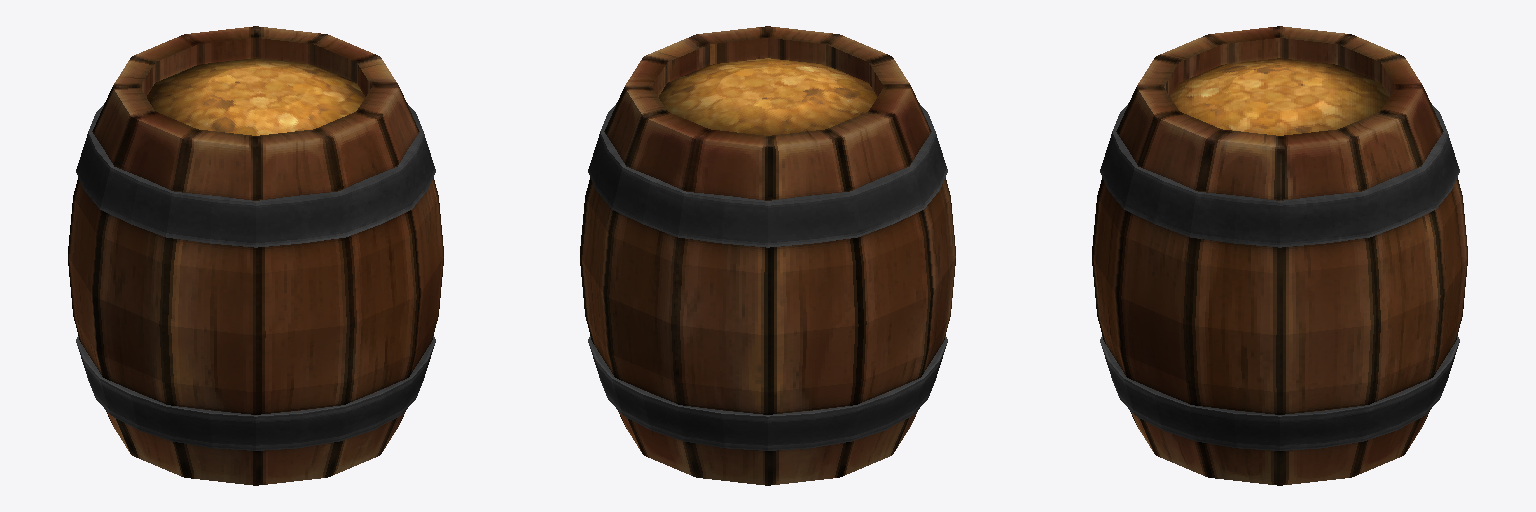
3 renders of one model, left to right at view 1: azimuth 30°, elevation 25°; view 2: azimuth 150°, elevation 25°; view 3: azimuth 270°, elevation 25°, orthographic.
Visible parts, largest first — view 1: Barrel_m_Mesh; view 2: Barrel_m_Mesh; view 3: Barrel_m_Mesh.
Part boxes in pixels (left/top/right/bottom): Barrel_m_Mesh: left=68, top=26, right=443, bottom=485; Barrel_m_Mesh: left=580, top=26, right=955, bottom=485; Barrel_m_Mesh: left=1092, top=26, right=1467, bottom=485.
Bounding box in the file's own units: 1.01 × 1 × 1.01.
1 materials, 1 textured.